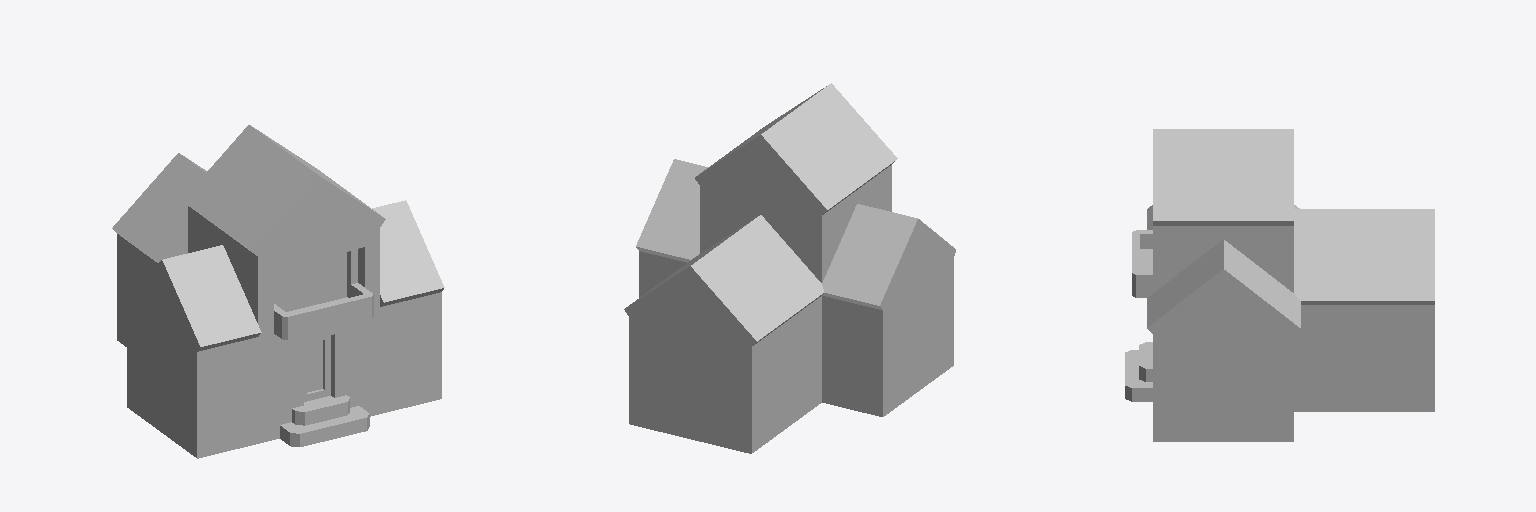
File: building-sample-house-c.obj
The picture shows the model from 3 angles: view 1: azimuth 30°, elevation 25°; view 2: azimuth 150°, elevation 25°; view 3: azimuth 270°, elevation 25°; orthographic projection.
Parts seen in each view (by area): view 1: building-sample-house-c; view 2: building-sample-house-c; view 3: building-sample-house-c.
Boxes of the visible parts, <box> form: building-sample-house-c: <box>112,125,444,458</box>; building-sample-house-c: <box>624,83,955,453</box>; building-sample-house-c: <box>1125,129,1434,441</box>.
Bounding box in the file's own units: 2 × 1.98 × 2.2.